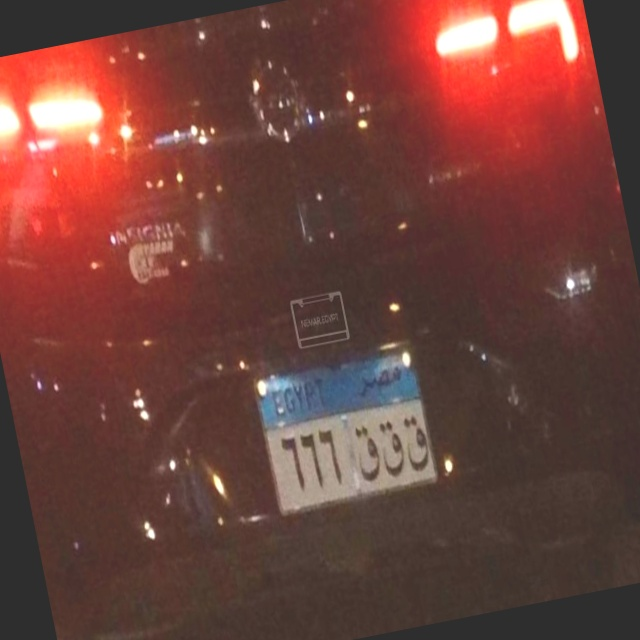License Plate: (244, 336, 448, 527)
